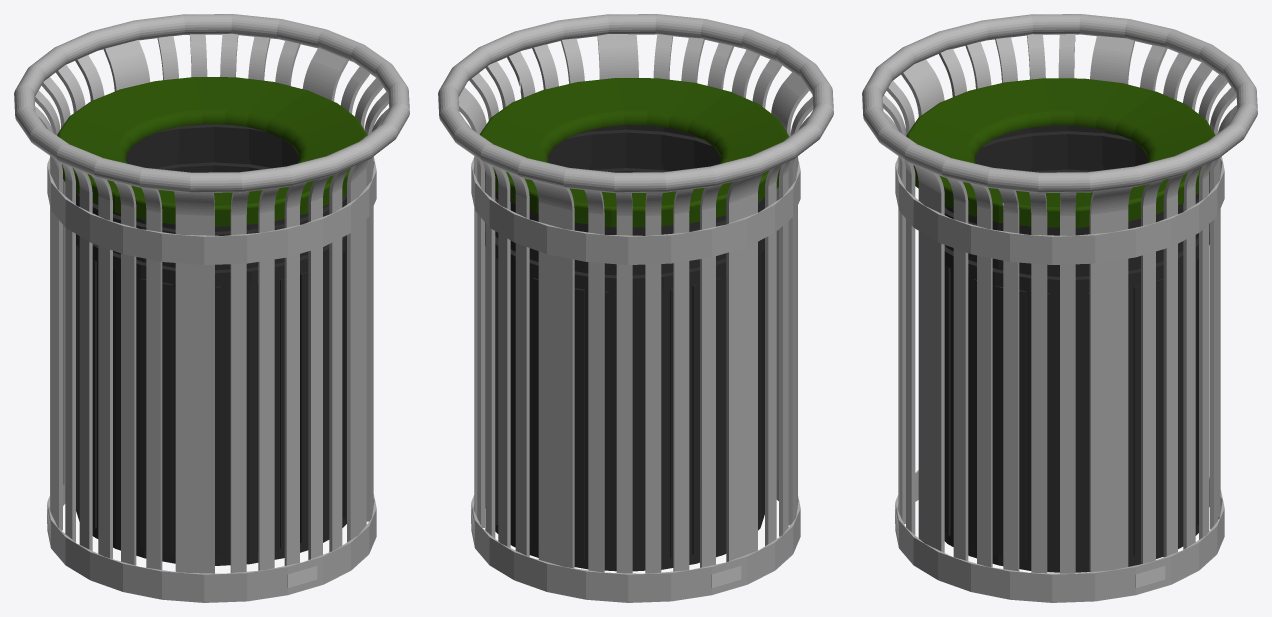
3 views of the same model, side by side, from view 1: azimuth 30°, elevation 25°; view 2: azimuth 150°, elevation 25°; view 3: azimuth 270°, elevation 25° (orthographic).
Visible parts, largest first — view 1: mesh81_mesh81-geometry, mesh1_mesh1-geometry, mesh139_mesh139-geometry, mesh123_mesh123-geometry, mesh158_mesh158-geometry, mesh114_mesh114-geometry, mesh125_mesh125-geometry, mesh152_mesh152-geometry, mesh112_mesh112-geometry, mesh106_mesh106-geometry, mesh108_mesh108-geometry, mesh173_mesh173-geometry (+29 smaller); view 2: mesh81_mesh81-geometry, mesh1_mesh1-geometry, mesh139_mesh139-geometry, mesh102_mesh102-geometry, mesh121_mesh121-geometry, mesh158_mesh158-geometry, mesh114_mesh114-geometry, mesh165_mesh165-geometry, mesh163_mesh163-geometry, mesh156_mesh156-geometry, mesh167_mesh167-geometry, mesh110_mesh110-geometry (+31 smaller); view 3: mesh81_mesh81-geometry, mesh1_mesh1-geometry, mesh139_mesh139-geometry, mesh127_mesh127-geometry, mesh158_mesh158-geometry, mesh114_mesh114-geometry, mesh125_mesh125-geometry, mesh133_mesh133-geometry, mesh131_mesh131-geometry, mesh129_mesh129-geometry, mesh144_mesh144-geometry, mesh146_mesh146-geometry (+32 smaller).
Boxes of the visible parts, box(x1,y1,x2,y2) form: mesh81_mesh81-geometry: box(76, 124, 346, 565); mesh1_mesh1-geometry: box(57, 77, 367, 226); mesh139_mesh139-geometry: box(14, 14, 409, 192); mesh123_mesh123-geometry: box(174, 191, 214, 573); mesh158_mesh158-geometry: box(47, 156, 376, 264); mesh114_mesh114-geometry: box(47, 484, 376, 602); mesh125_mesh125-geometry: box(347, 160, 367, 542); mesh152_mesh152-geometry: box(258, 188, 279, 570); mesh112_mesh112-geometry: box(230, 191, 249, 572); mesh106_mesh106-geometry: box(141, 188, 162, 569); mesh108_mesh108-geometry: box(113, 181, 136, 565); mesh173_mesh173-geometry: box(284, 182, 307, 565); mesh81_mesh81-geometry: box(485, 125, 764, 571); mesh1_mesh1-geometry: box(480, 78, 789, 227); mesh139_mesh139-geometry: box(438, 14, 833, 192); mesh102_mesh102-geometry: box(532, 180, 574, 568); mesh121_mesh121-geometry: box(726, 172, 764, 562); mesh158_mesh158-geometry: box(471, 157, 800, 264); mesh114_mesh114-geometry: box(471, 480, 800, 602); mesh165_mesh165-geometry: box(645, 192, 662, 573); mesh163_mesh163-geometry: box(584, 190, 604, 572); mesh156_mesh156-geometry: box(673, 189, 693, 571); mesh167_mesh167-geometry: box(615, 193, 632, 573); mesh110_mesh110-geometry: box(700, 184, 722, 567); mesh81_mesh81-geometry: box(944, 125, 1209, 572); mesh1_mesh1-geometry: box(906, 78, 1215, 227); mesh139_mesh139-geometry: box(862, 14, 1257, 192); mesh127_mesh127-geometry: box(1089, 187, 1132, 571); mesh158_mesh158-geometry: box(895, 156, 1224, 264); mesh114_mesh114-geometry: box(895, 470, 1224, 602); mesh125_mesh125-geometry: box(914, 165, 944, 552); mesh133_mesh133-geometry: box(998, 189, 1019, 571); mesh131_mesh131-geometry: box(1029, 192, 1047, 573); mesh129_mesh129-geometry: box(1060, 192, 1076, 573); mesh144_mesh144-geometry: box(970, 183, 992, 567); mesh146_mesh146-geometry: box(947, 178, 968, 560).
Bounding box in the file's own units: 0.5347 × 0.6544 × 0.5347.
